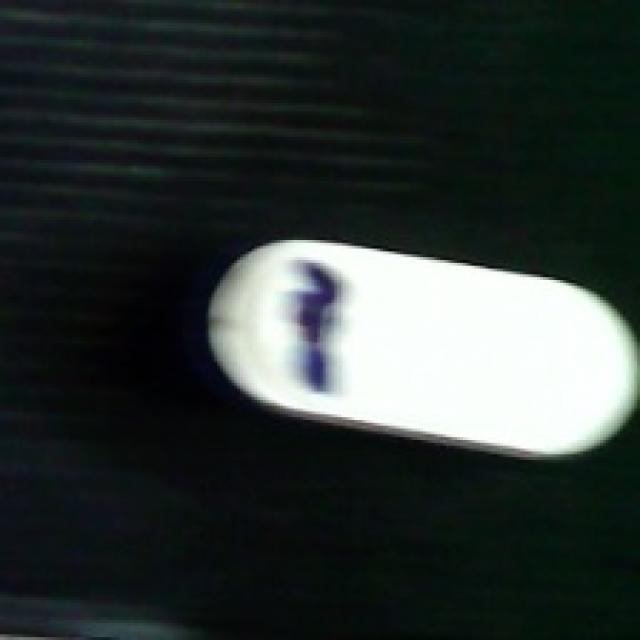defected: (194, 240, 637, 466)
